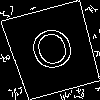O: (26, 25, 81, 80)
